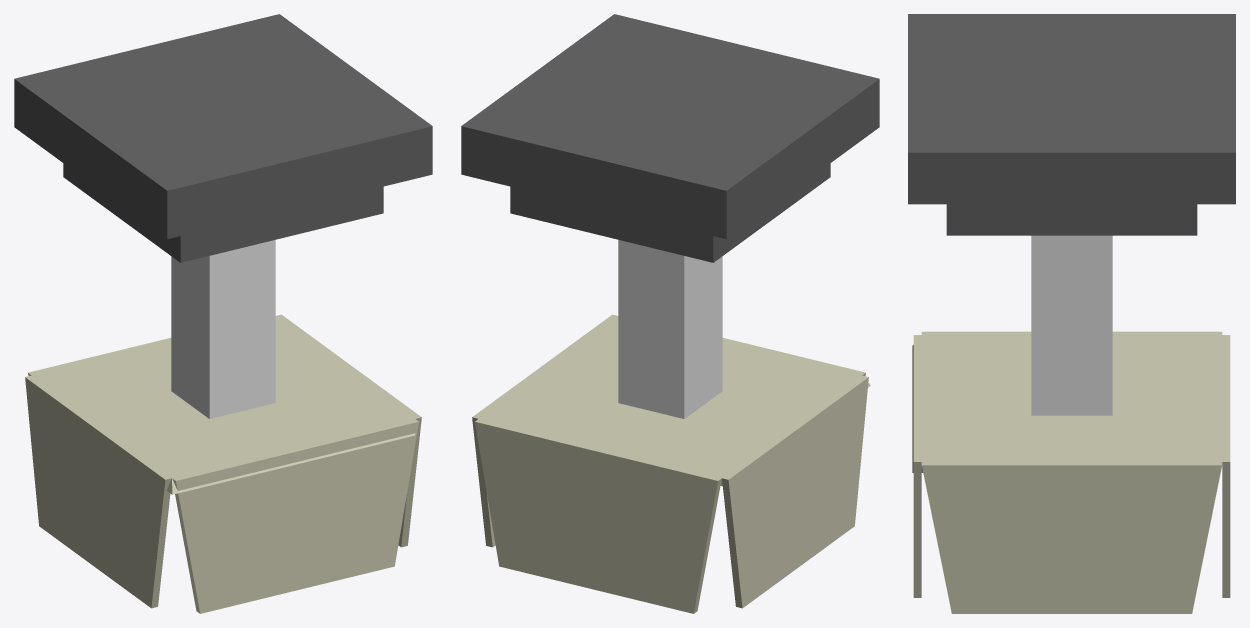
File: Light01.fbx
The picture shows the model from 3 angles, left to right: view 1: azimuth 30°, elevation 25°; view 2: azimuth 150°, elevation 25°; view 3: azimuth 270°, elevation 25°; orthographic projection. The views are drawn at different scales.
Visible parts, largest first — view 1: Handle, Lamp_Shade; view 2: Handle, Lamp_Shade; view 3: Handle, Lamp_Shade.
Part boxes in pixels (box(x1,y1,x2,y2)): Handle: box(14, 14, 432, 418); Lamp_Shade: box(25, 314, 421, 613); Handle: box(461, 14, 879, 418); Lamp_Shade: box(472, 314, 870, 613); Handle: box(908, 14, 1235, 415); Lamp_Shade: box(912, 331, 1230, 613).
Bounding box in the file's own units: 90 × 141 × 90.
